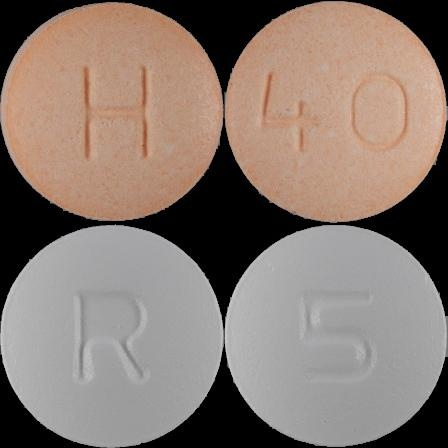61786-032: (0, 0, 224, 224)
